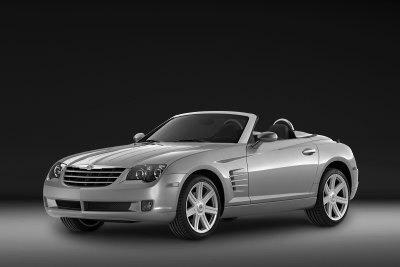car: (45, 111, 359, 244)
